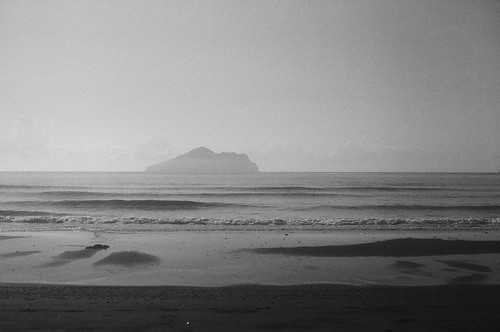turtleIsland: (143, 146, 261, 179)
